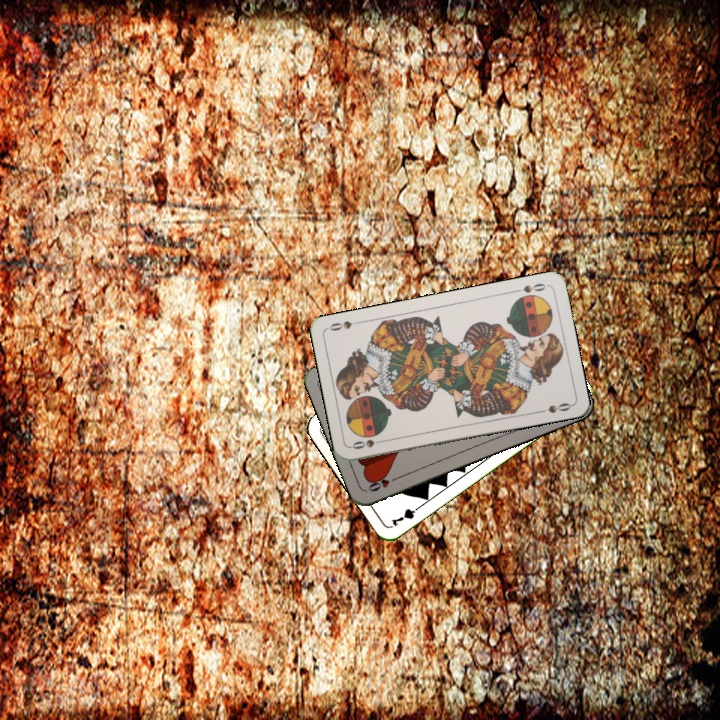G7: (387, 501, 425, 529)
HO: (364, 472, 403, 494)
SO: (348, 435, 388, 452), (510, 279, 550, 295)
